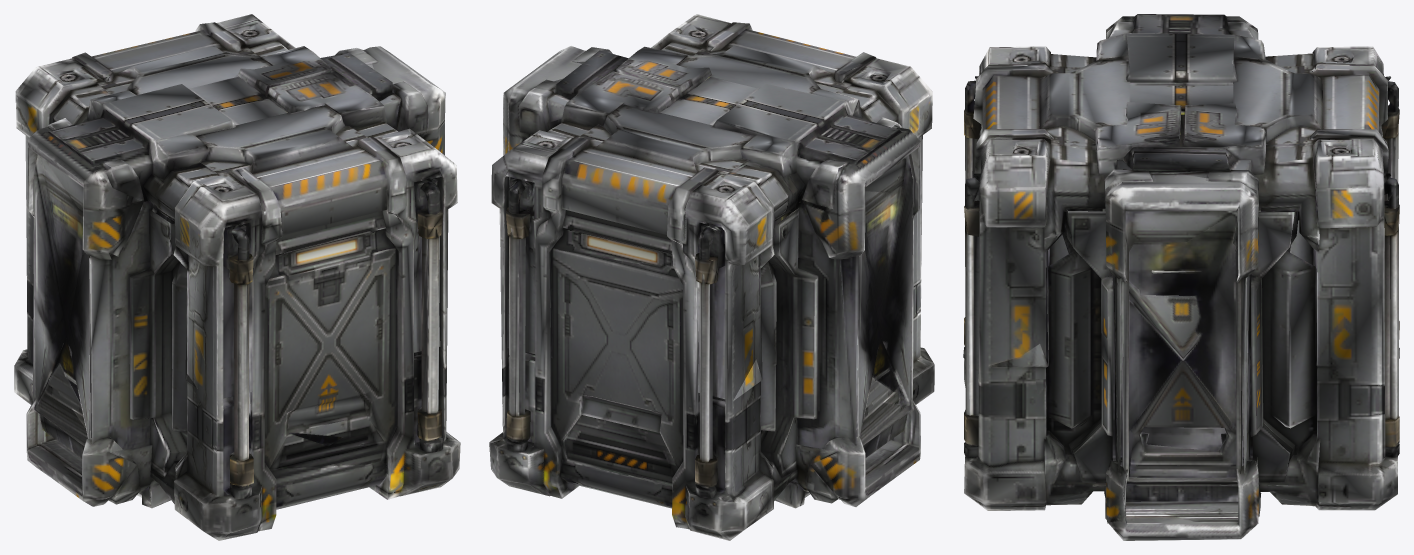
Rendered from center_crate.glb.
3 renders of one model, left to right at view 1: azimuth 30°, elevation 25°; view 2: azimuth 150°, elevation 25°; view 3: azimuth 270°, elevation 25°, orthographic. The views are drawn at different scales.
Visible parts, largest first — view 1: mesh_node; view 2: mesh_node; view 3: mesh_node.
Boxes of the visible parts, x1,y1,x2,y2 form: mesh_node: [14, 14, 460, 540]; mesh_node: [489, 14, 934, 540]; mesh_node: [963, 14, 1399, 540].
Bounding box in the file's own units: 1.26 × 1.2 × 1.27.
Materials: 1 (1 with a texture image).
